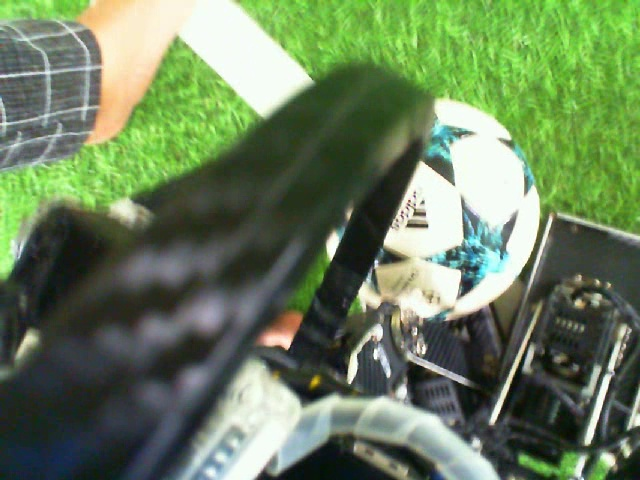ball: (356, 93, 543, 332)
